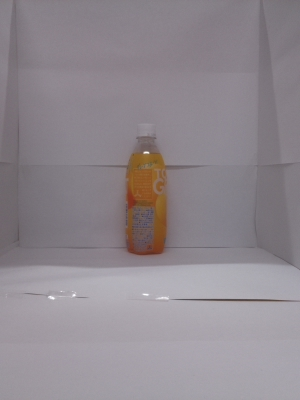グレープフルーツスカッシュ: (117, 117, 180, 262)
